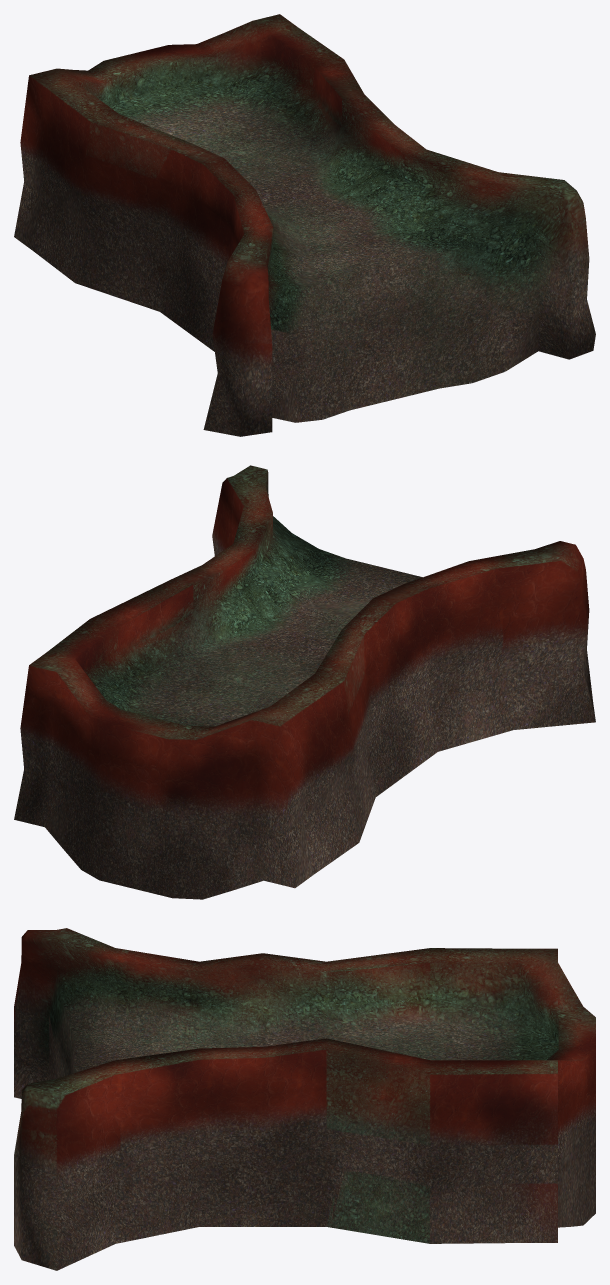
Rendered from nook-floor.glb.
The picture shows the model from 3 angles, top to bottom: view 1: azimuth 30°, elevation 25°; view 2: azimuth 150°, elevation 25°; view 3: azimuth 270°, elevation 25°; orthographic projection. The views are drawn at different scales.
Parts seen in each view (by area): view 1: nook-floor-col; view 2: nook-floor-col; view 3: nook-floor-col.
Boxes of the visible parts, <box> form: nook-floor-col: <box>14,14,595,436</box>; nook-floor-col: <box>14,465,595,899</box>; nook-floor-col: <box>14,928,595,1270</box>.
Bounding box in the file's own units: 10.22 × 4.72 × 12.84.
Materials: 1 (1 with a texture image).
